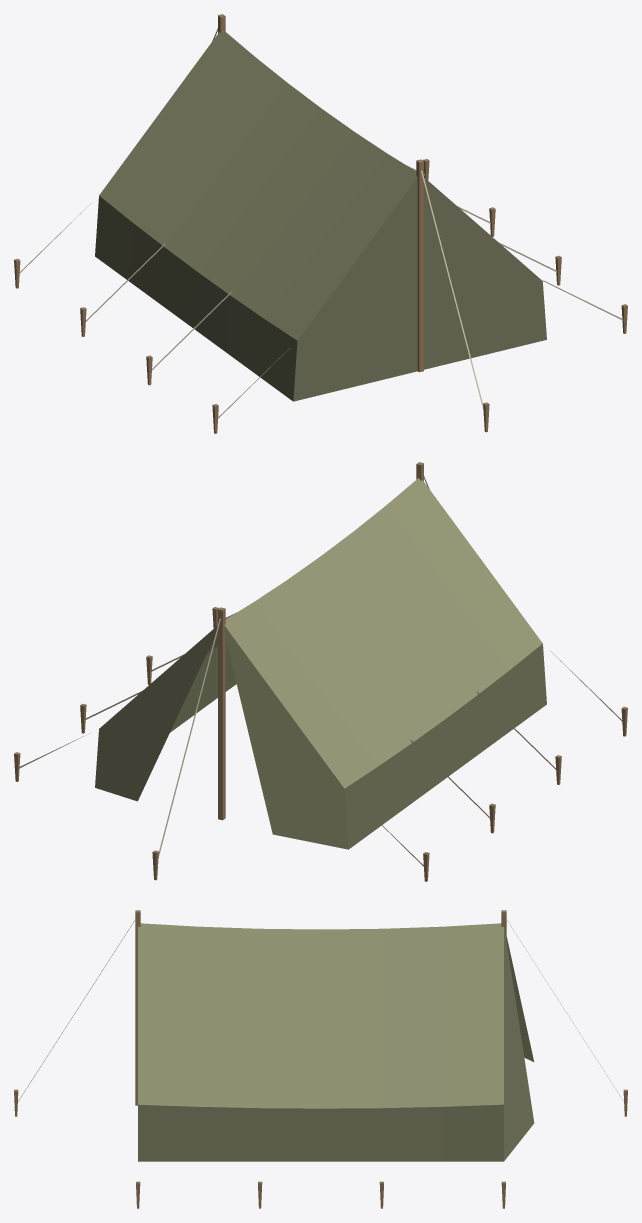
File: tent-canvas.glb
The picture shows the model from 3 angles, top to bottom: view 1: azimuth 30°, elevation 25°; view 2: azimuth 150°, elevation 25°; view 3: azimuth 270°, elevation 25°; orthographic projection. The views are drawn at different scales.
Visible parts, largest first — view 1: tent-canvas; view 2: tent-canvas; view 3: tent-canvas.
Part boxes in pixels (box(x1,y1,x2,y2)): tent-canvas: box(14, 14, 627, 433); tent-canvas: box(14, 462, 627, 881); tent-canvas: box(14, 910, 627, 1208).
Bounding box in the file's own units: 5.05 × 2.6 × 7.05.
